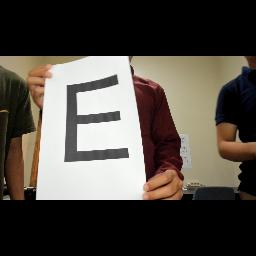e: (58, 74, 136, 168)
